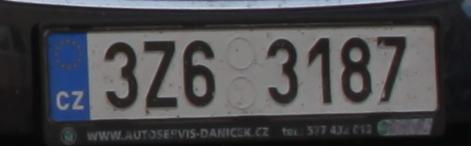1: (308, 36, 333, 105)
3: (105, 41, 136, 107), (268, 39, 298, 104)
6: (183, 41, 214, 106)
7: (378, 36, 406, 103)
8: (340, 37, 372, 104)
Z: (144, 42, 178, 108)
